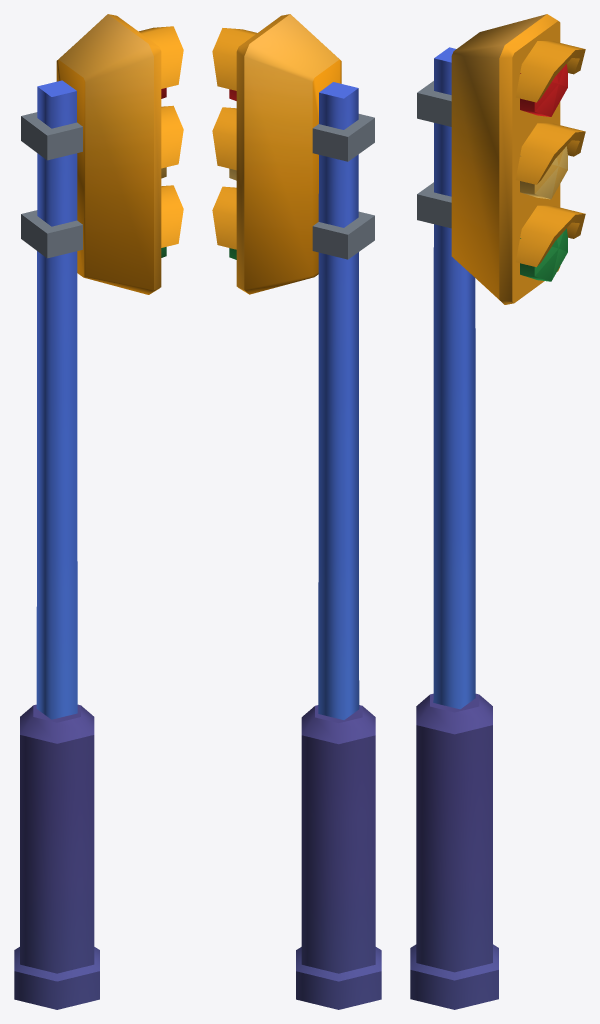
Rendered from Lights_4_B.fbx.
3 renders of one model, left to right at view 1: azimuth 30°, elevation 25°; view 2: azimuth 150°, elevation 25°; view 3: azimuth 330°, elevation 25°, orthographic. The views are drawn at different scales.
Parts seen in each view (by area): view 1: Lights_4_B; view 2: Lights_4_B; view 3: Lights_4_B.
Part boxes in pixels (x1=…): Lights_4_B: x1=14, y1=14, x2=183, y2=1009; Lights_4_B: x1=212, y1=14, x2=381, y2=1009; Lights_4_B: x1=410, y1=14, x2=585, y2=1009.
Bounding box in the file's own units: 59.13 × 334 × 33.02.
